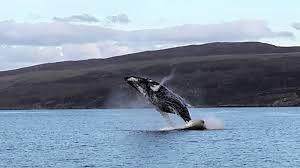humpback: (124, 75, 192, 121)
